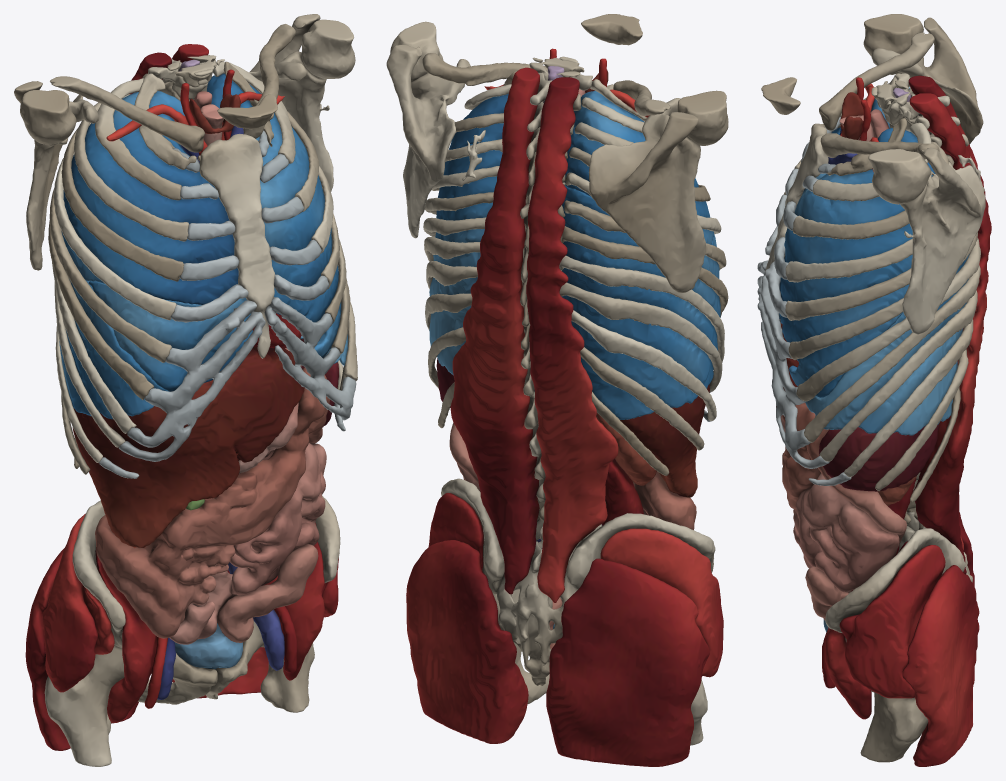
3 views of the same model, side by side, from view 1: azimuth 30°, elevation 25°; view 2: azimuth 150°, elevation 25°; view 3: azimuth 270°, elevation 25° (orthographic). The views are drawn at different scales.
Parts seen in each view (by area): view 1: colon, costal_cartilages, liver, lung_upper_lobe_right, small_bowel, lung_upper_lobe_left, sternum, gluteus_medius_right, femur_right, lung_middle_lobe_right, hip_right, scapula_left (+40 smaller); view 2: gluteus_maximus_right, autochthon_left, autochthon_right, gluteus_maximus_left, scapula_right, lung_lower_lobe_right, scapula_left, gluteus_medius_right, lung_lower_lobe_left, sacrum, liver, rib_right_9 (+32 smaller); view 3: lung_upper_lobe_left, gluteus_maximus_left, scapula_left, autochthon_left, gluteus_medius_left, small_bowel, costal_cartilages, lung_lower_lobe_left, colon, spleen, scapula_right, hip_left (+25 smaller).
Part boxes in pixels (x1,y1,x2,y2): colon: (95,367,329,642); costal_cartilages: (99,130,356,478); liver: (72,346,304,548); lung_upper_lobe_right: (63,91,238,304); small_bowel: (169,443,326,644); lung_upper_lobe_left: (207,73,341,357); sternum: (199,133,275,358); gluteus_medius_right: (42,513,97,692); femur_right: (44,645,124,766); lung_middle_lobe_right: (89,281,252,391); hip_right: (72,500,217,704); scapula_left: (223,14,333,191); gluteus_maximus_right: (546,558,709,766); autochthon_left: (450,67,539,594); autochthon_right: (526,77,618,602); gluteus_maximus_left: (406,540,528,743); scapula_right: (588,98,705,292); lung_lower_lobe_right: (562,186,720,419); scapula_left: (386,44,485,238); gluteus_medius_right: (600,528,723,677); lung_lower_lobe_left: (429,144,502,375); sacrum: (497,524,601,685); liver: (619,384,709,497); rib_right_9: (559,282,722,391); lung_upper_lobe_left: (779,128,935,397); gluteus_maximus_left: (902,565,979,766); scapula_left: (900,147,985,334); autochthon_left: (909,93,991,574); gluteus_medius_left: (845,545,945,698); small_bowel: (793,473,899,592); costal_cartilages: (757,117,851,485); lung_lower_lobe_left: (805,254,969,435); colon: (782,402,906,620); spleen: (819,423,939,491); scapula_right: (871,17,983,144); hip_left: (825,528,965,692).
Bounding box in the file's own units: 1.04 × 2 × 0.6809.
